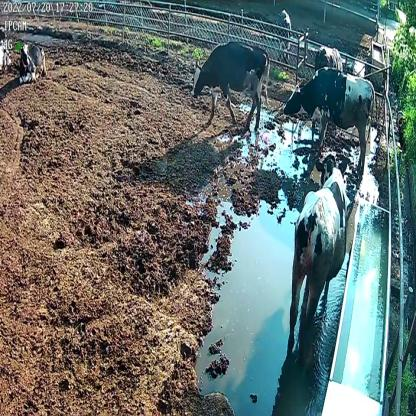cow: (290, 150, 351, 340), (285, 65, 376, 170), (190, 42, 270, 130), (15, 41, 48, 83), (314, 44, 344, 71)
